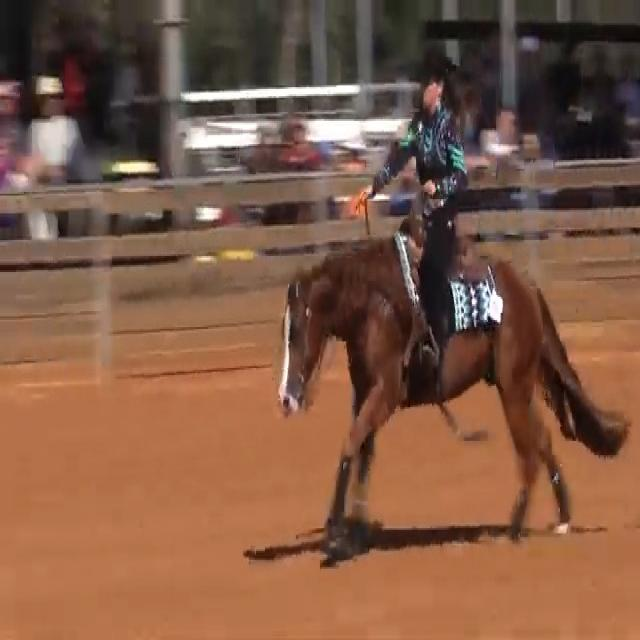horse: (275, 224, 630, 560)
